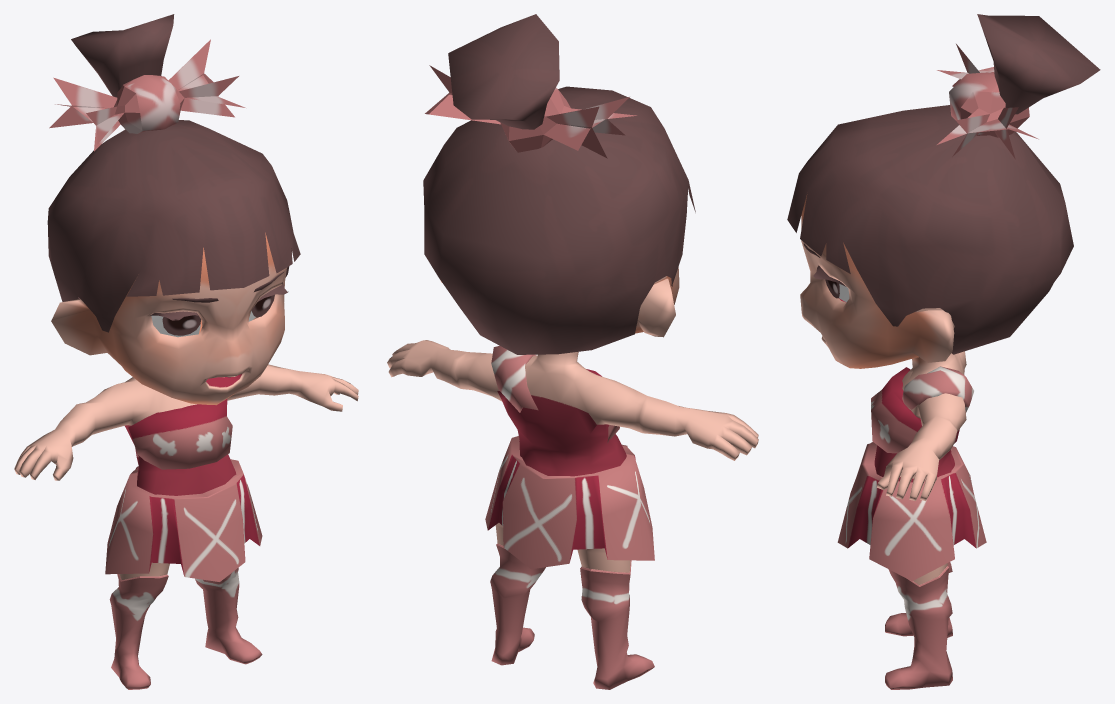
File: Main_Girl.fbx
3 views of the same model, side by side, from view 1: azimuth 30°, elevation 25°; view 2: azimuth 150°, elevation 25°; view 3: azimuth 270°, elevation 25° (orthographic). The views are drawn at different scales.
Visible parts, largest first — view 1: Hair_Geo, Body_Geo, Face_Geo, Iris_R_Geo; view 2: Hair_Geo, Body_Geo, Face_Geo; view 3: Hair_Geo, Body_Geo, Face_Geo.
Part boxes in pixels (<box>): Hair_Geo: <box>47,14,300,332</box>; Body_Geo: <box>14,364,358,689</box>; Face_Geo: <box>51,232,287,405</box>; Iris_R_Geo: <box>162,315,201,335</box>; Hair_Geo: <box>423,14,695,354</box>; Body_Geo: <box>387,340,758,689</box>; Face_Geo: <box>440,267,679,337</box>; Hair_Geo: <box>787,14,1100,354</box>; Body_Geo: <box>837,351,986,689</box>; Face_Geo: <box>800,194,954,368</box>.
Bounding box in the file's own units: 96.93 × 171 × 75.29.
1 material, 1 textured.
